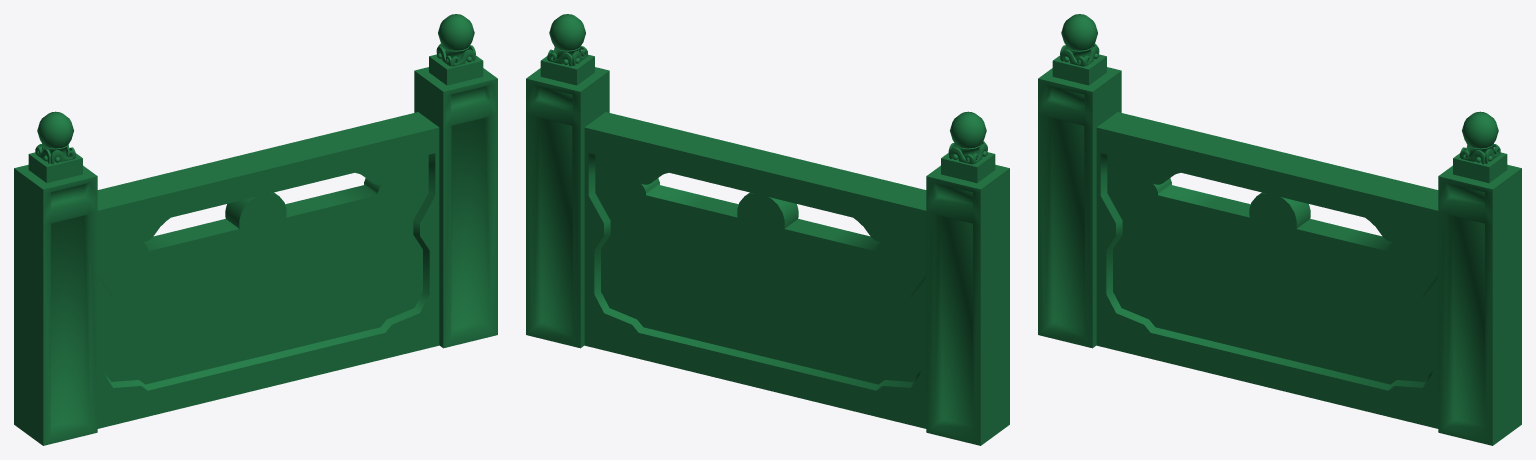
3 views of the same model, side by side, from view 1: azimuth 30°, elevation 25°; view 2: azimuth 150°, elevation 25°; view 3: azimuth 330°, elevation 25° (orthographic).
Visible parts, largest first — view 1: Plane009, Sphere004, Sphere004.001; view 2: Plane009, Sphere004, Sphere004.001; view 3: Plane009, Sphere004.001, Sphere004.
Part boxes in pixels (x1,y1,x2,y2): Plane009: (97,112,439,428); Sphere004: (14,111,97,445); Sphere004.001: (414,14,497,348); Plane009: (584,112,926,428); Sphere004: (926,111,1009,445); Sphere004.001: (526,14,609,348); Plane009: (1096,112,1438,428); Sphere004.001: (1438,111,1521,445); Sphere004: (1038,14,1121,348).
Bounding box in the file's own units: 742 × 492 × 82.34.
